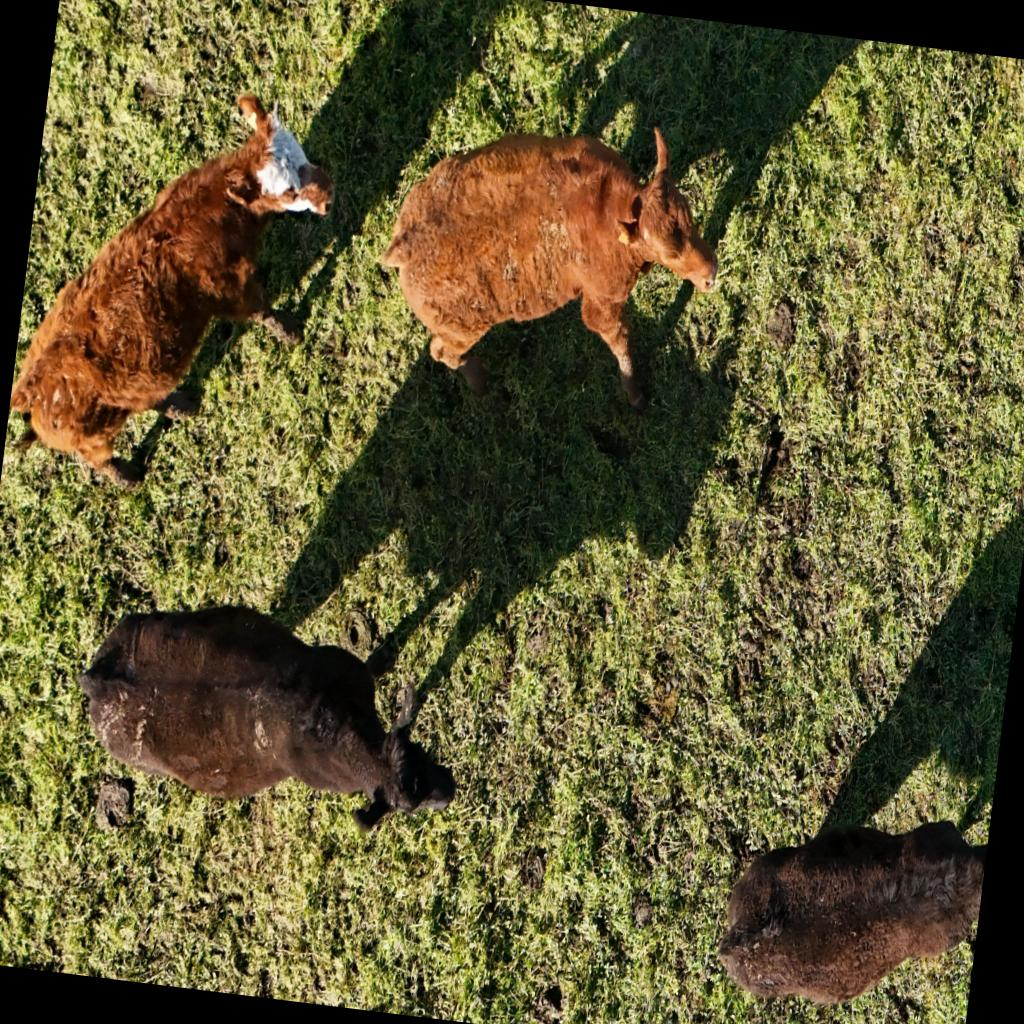cow: (0, 48, 360, 523), (358, 76, 739, 445), (60, 582, 476, 834), (710, 792, 990, 1022)
